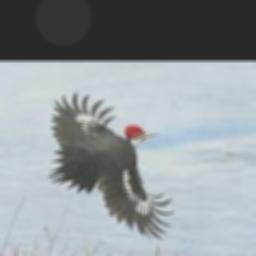Woodpecker: (48, 91, 176, 238)
